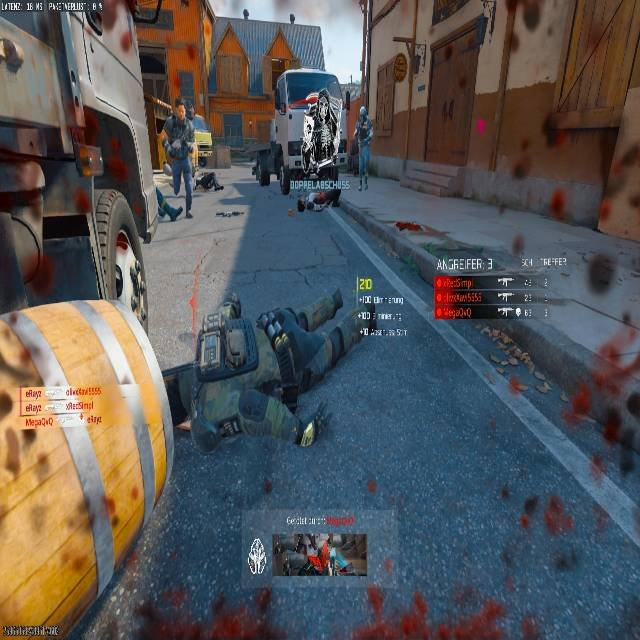head: (176, 102, 185, 118), (359, 105, 367, 118)
player: (0, 12, 189, 640), (159, 100, 198, 218), (352, 106, 374, 189), (355, 106, 373, 137)
